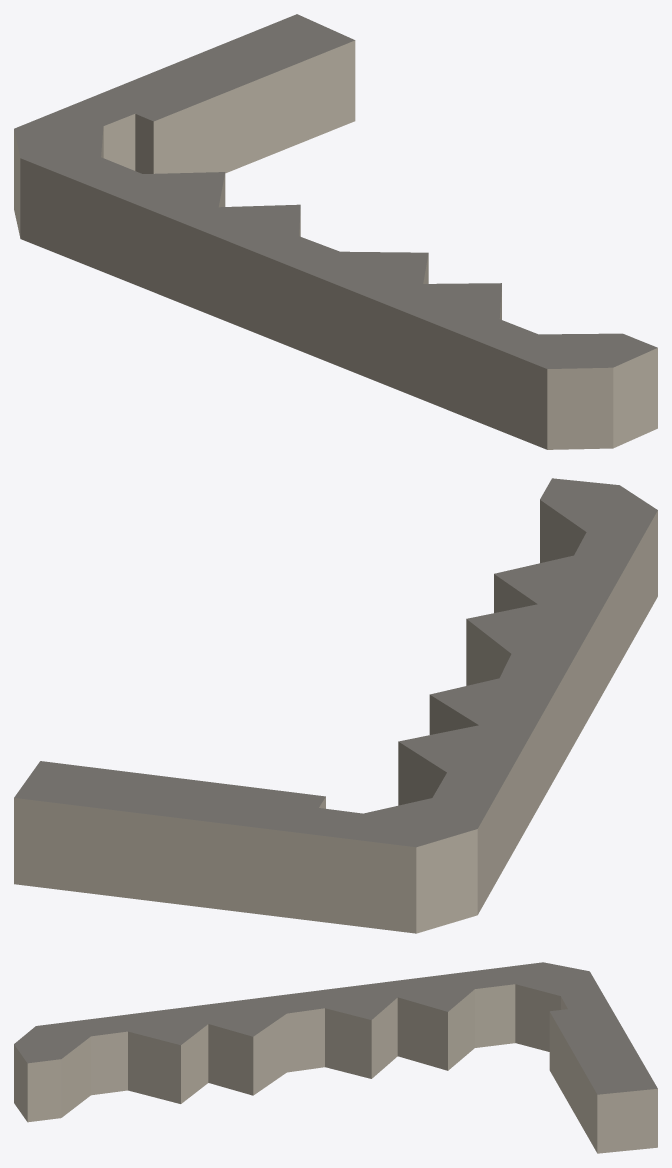
3 views of the same model, one above another, from view 1: azimuth 30°, elevation 25°; view 2: azimuth 150°, elevation 25°; view 3: azimuth 270°, elevation 25° (orthographic). The views are drawn at different scales.
Visible parts, largest first — view 1: HP-w1202561785; view 2: HP-w1202561785; view 3: HP-w1202561785.
Part boxes in pixels (left/top/right/bottom): HP-w1202561785: left=14, top=14, right=657, bottom=449; HP-w1202561785: left=14, top=478, right=657, bottom=933; HP-w1202561785: left=14, top=962, right=657, bottom=1153.
Size of the model in its own units: 57.82 by 12 by 119.
